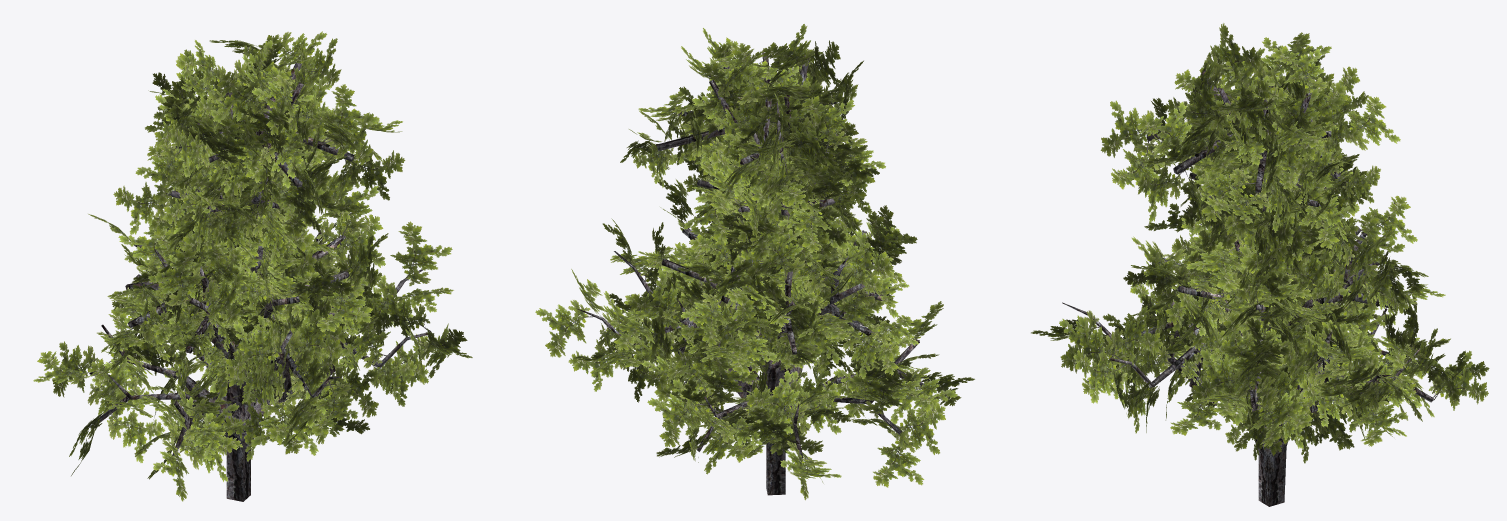
The model's file is Tree_Prototype.fbx.
The picture shows the model from 3 angles, left to right: view 1: azimuth 30°, elevation 25°; view 2: azimuth 150°, elevation 25°; view 3: azimuth 270°, elevation 25°; orthographic projection. The views are drawn at different scales.
Visible parts, largest first — view 1: Vert.001, Vert.002; view 2: Vert.001, Vert.002; view 3: Vert.001, Vert.002.
Boxes of the visible parts, <box> form: Vert.001: <box>33,31,472,501</box>; Vert.002: <box>89,63,430,501</box>; Vert.001: <box>535,24,974,500</box>; Vert.002: <box>576,52,924,495</box>; Vert.001: <box>1031,23,1489,463</box>; Vert.002: <box>1062,70,1433,506</box>.
Bounding box in the file's own units: 1448 × 1715 × 1513.
2 materials, 2 textured.
